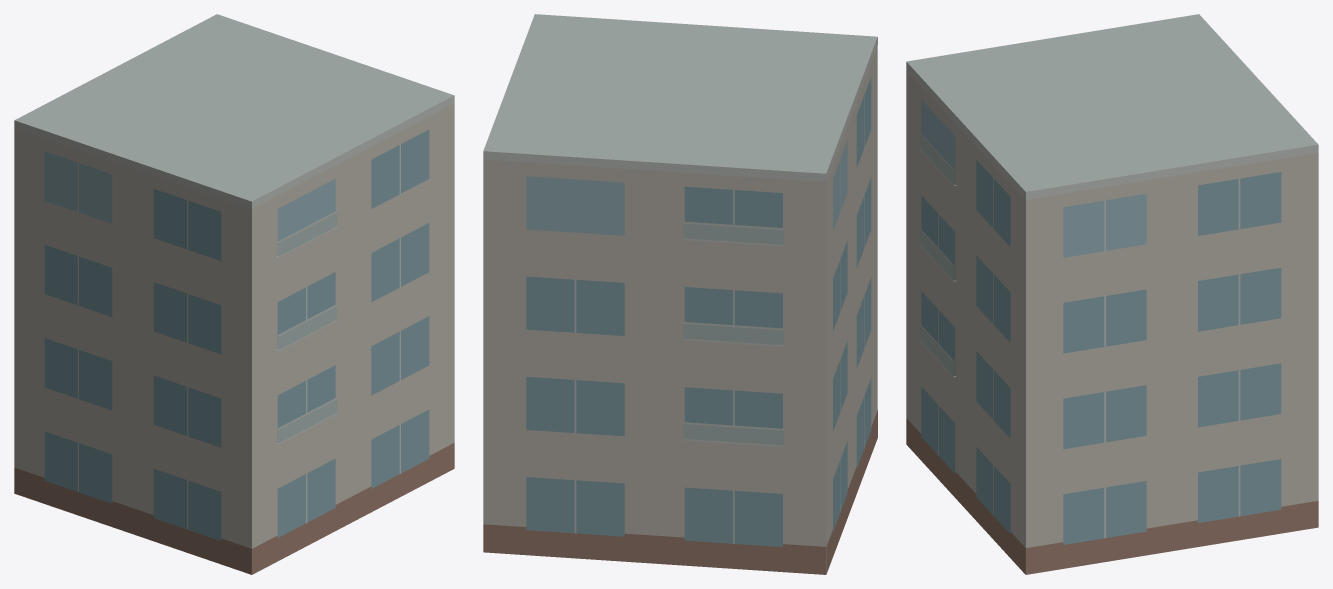
The model's file is survey-upis-32921021.glb.
3 renders of one model, left to right at view 1: azimuth 30°, elevation 25°; view 2: azimuth 150°, elevation 25°; view 3: azimuth 270°, elevation 25°, orthographic. The views are drawn at different scales.
Parts seen in each view (by area): view 1: survey-upis-32921021.tmp; view 2: survey-upis-32921021.tmp; view 3: survey-upis-32921021.tmp.
Part boxes in pixels (left/top/right/bottom): survey-upis-32921021.tmp: left=14, top=14, right=454, bottom=574; survey-upis-32921021.tmp: left=483, top=14, right=877, bottom=574; survey-upis-32921021.tmp: left=906, top=14, right=1318, bottom=574.
Size of the model in its own units: 11.68 by 11.7 by 11.43.
